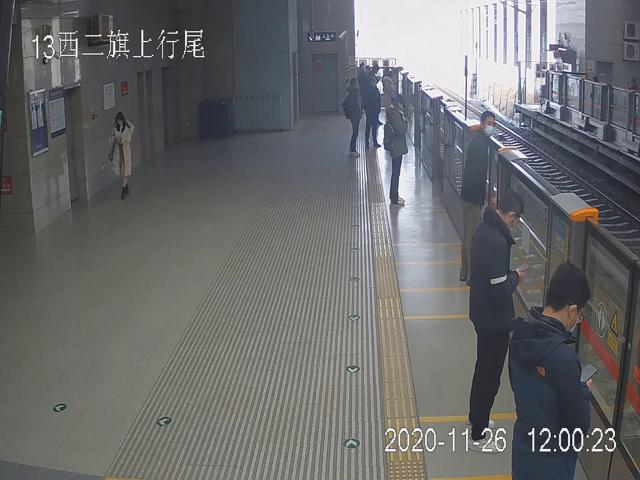person: (467, 188, 524, 452), (458, 108, 496, 283), (386, 93, 408, 208), (108, 110, 133, 200), (344, 76, 363, 158)
